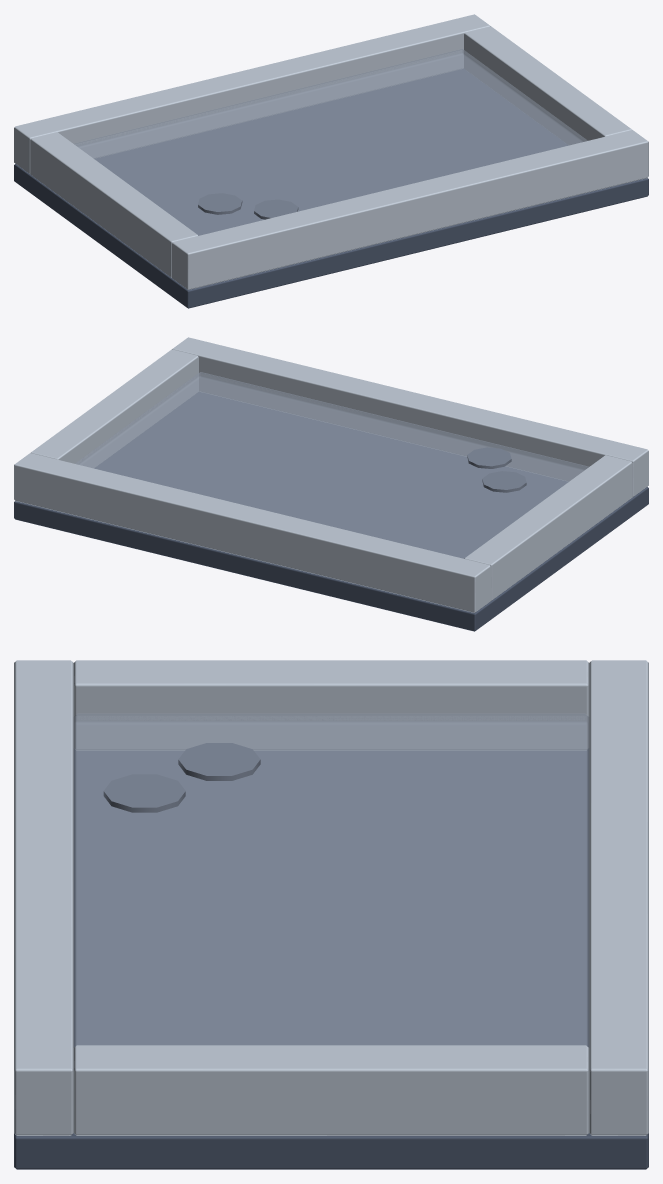
The model's file is garden-pond-lite.glb.
3 renders of one model, top to bottom at view 1: azimuth 30°, elevation 25°; view 2: azimuth 150°, elevation 25°; view 3: azimuth 270°, elevation 25°, orthographic. The views are drawn at different scales.
Visible parts, largest first — view 1: garden-pond; view 2: garden-pond; view 3: garden-pond.
Boxes of the visible parts, left/top/right/bottom form: garden-pond: left=14, top=14, right=648, bottom=308; garden-pond: left=14, top=337, right=648, bottom=631; garden-pond: left=14, top=660, right=648, bottom=1169.
Bounding box in the file's own units: 2.6 × 0.3 × 1.7.
